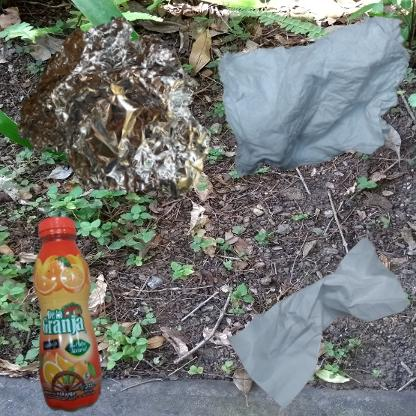aluminio: (10, 10, 216, 211)
botella: (10, 213, 137, 416)
papel: (213, 213, 416, 416), (213, 10, 416, 185)
